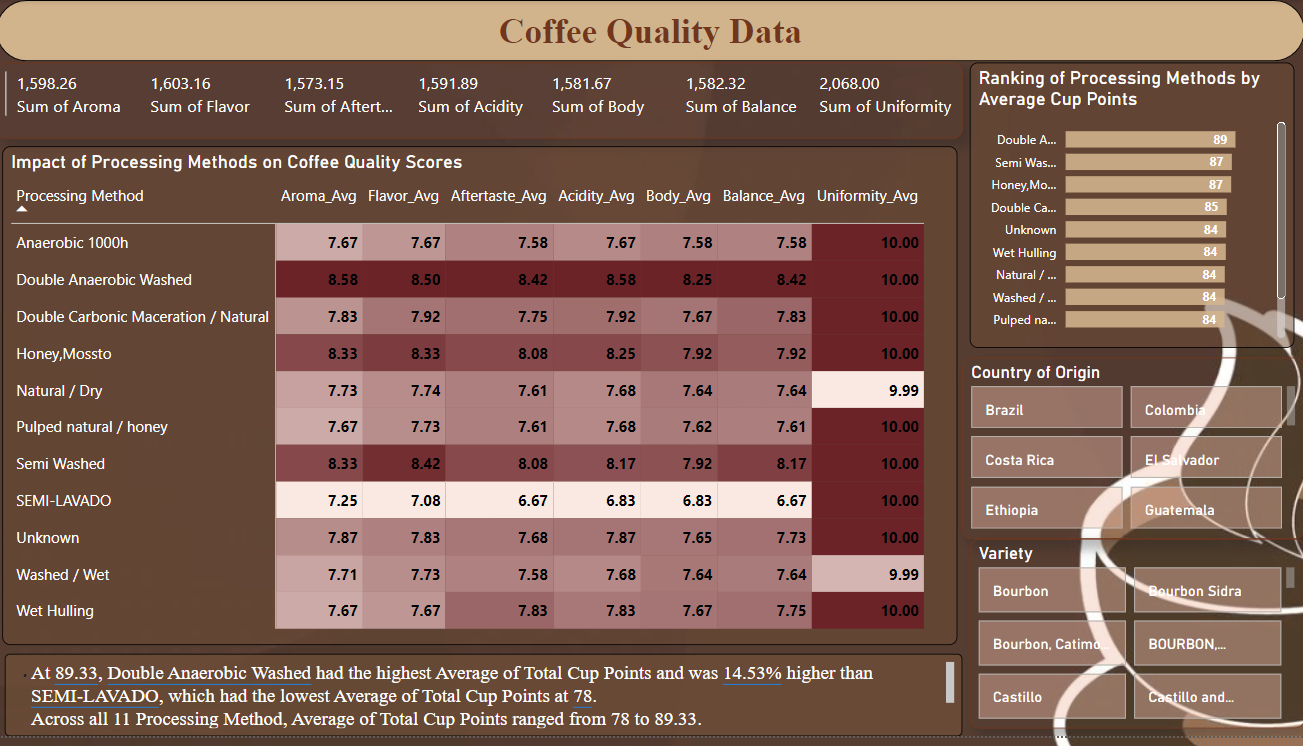

The dashboard page shown, as its layout file describes it:
{"tool":"powerbi","page":{"name":"Task -2","canvas":[1280,720],"ordinal":1},"visuals":[{"type":"shape","box":[0,0,1280.3,59.9],"z":0},{"type":"multiRowCard","fields":{"Values":["Sum(Cup Points.Aroma)","Sum(Cup Points.Flavor)","Sum(Cup Points.Aftertaste)","Sum(Cup Points.Acidity)","Sum(Cup Points.Body)","Sum(Cup Points.Balance)","Sum(coffee data.Uniformity)"]},"box":[0,61.1,945.2,74.6],"z":1000},{"type":"pivotTable","title":"Impact of Processing Methods on Coffee Quality Scores","fields":{"Rows":["coffee data.Processing Method"],"Values":["Cup Points.Aroma_Avg","Cup Points.Flavor_Avg","Cup Points.Aftertaste_Avg","Cup Points.Acidity_Avg","Cup Points.Body_Avg","Cup Points.Balance_Avg","Cup Points.Uniformity_Avg"]},"box":[6.1,143.1,934.2,487.9],"z":2000},{"type":"advancedSlicerVisual","fields":{"Values":["coffee data.Country of Origin"]},"box":[945.2,349.7,335.1,177.3],"z":3000},{"type":"advancedSlicerVisual","fields":{"Values":["coffee data.Variety"]},"box":[952.6,527,327.7,185.9],"z":4000},{"type":"clusteredBarChart","title":"Ranking of Processing Methods by Average Cup Points","fields":{"Category":["coffee data.Processing Method"],"Y":["Avg(coffee data.Total Cup Points)"]},"box":[952.6,61.1,317.9,278.8],"z":5000},{"type":"textbox","box":[8.6,639.5,936.7,80.7],"z":6000}]}

Visuals, with their boxes in screenshot pixels (x1, y1, x2, y2), scaled from the page's 1280x720 canvas onto the 1303x746 screenshot:
shape: {"left": 0, "top": 0, "right": 1302, "bottom": 62}
multiRowCard - Sum(Cup Points.Aroma) x Sum(Cup Points.Flavor): {"left": 0, "top": 63, "right": 962, "bottom": 141}
"Impact of Processing Methods on Coffee Quality Scores" pivotTable: {"left": 6, "top": 148, "right": 957, "bottom": 654}
advancedSlicerVisual - coffee data.Country of Origin: {"left": 962, "top": 362, "right": 1302, "bottom": 546}
advancedSlicerVisual - coffee data.Variety: {"left": 970, "top": 546, "right": 1302, "bottom": 739}
"Ranking of Processing Methods by Average Cup Points" clusteredBarChart: {"left": 970, "top": 63, "right": 1293, "bottom": 352}
textbox: {"left": 9, "top": 663, "right": 962, "bottom": 745}
